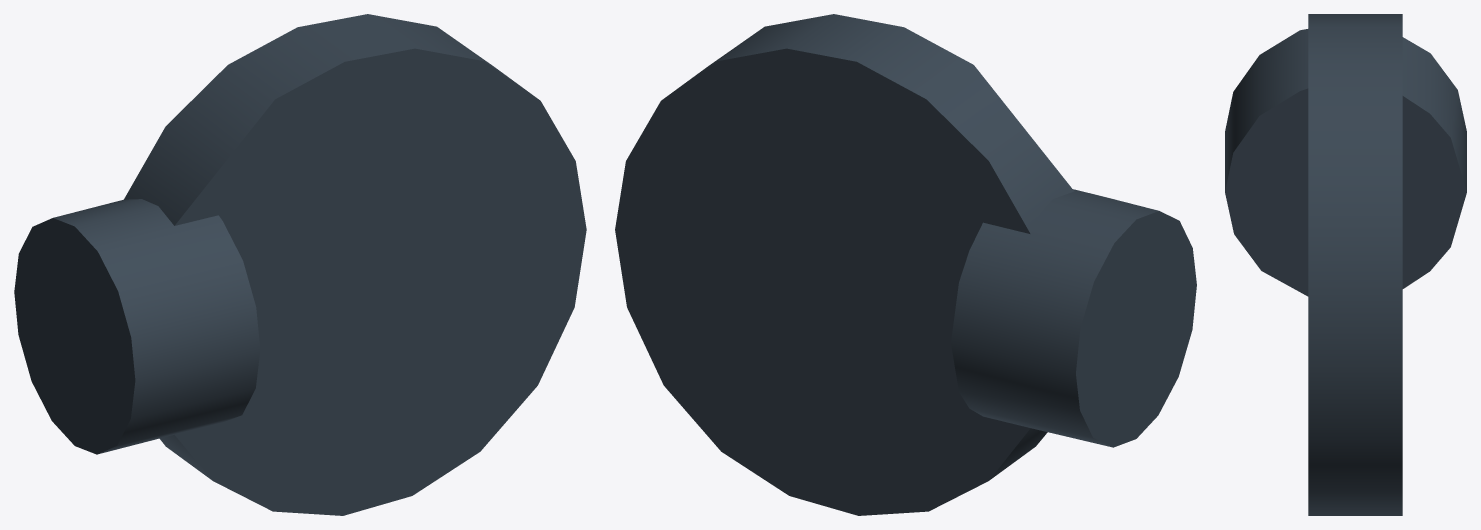
Rendered from fl_hipx.dae.
3 renders of one model, left to right at view 1: azimuth 30°, elevation 25°; view 2: azimuth 150°, elevation 25°; view 3: azimuth 270°, elevation 25°, orthographic.
Visible parts, largest first — view 1: Mesh; view 2: Mesh; view 3: Mesh.
Part boxes in pixels (x1,y1,x2,y2): Mesh: [14, 14, 586, 515]; Mesh: [615, 14, 1196, 515]; Mesh: [1225, 14, 1466, 515].
Bounding box in the file's own units: 106 × 45 × 93.
